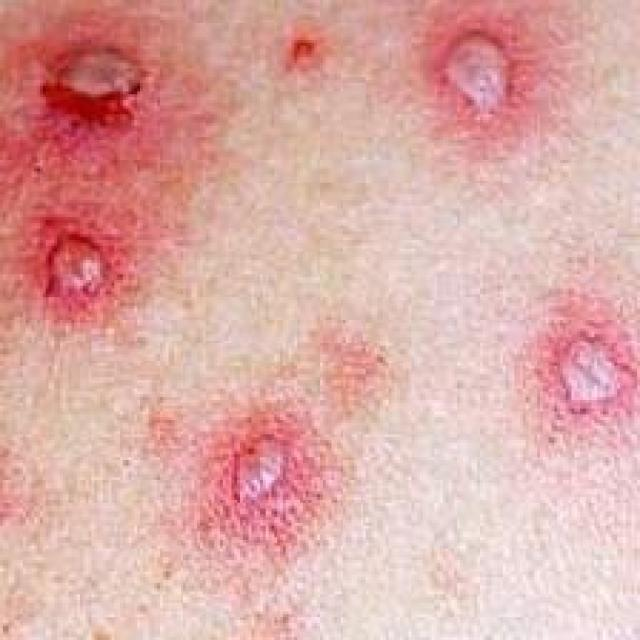others: (12, 11, 638, 554)
